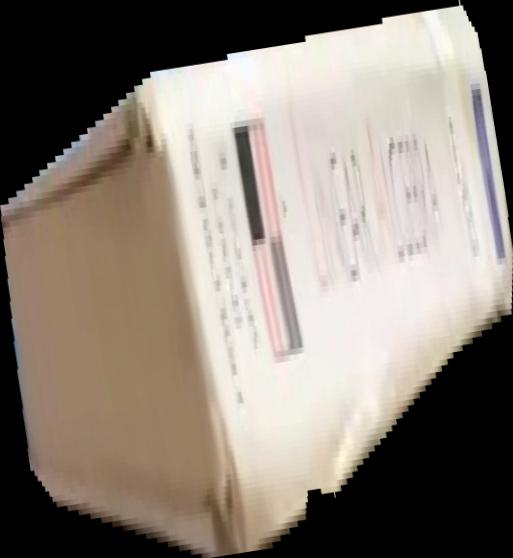flat: (1, 1, 513, 558)
